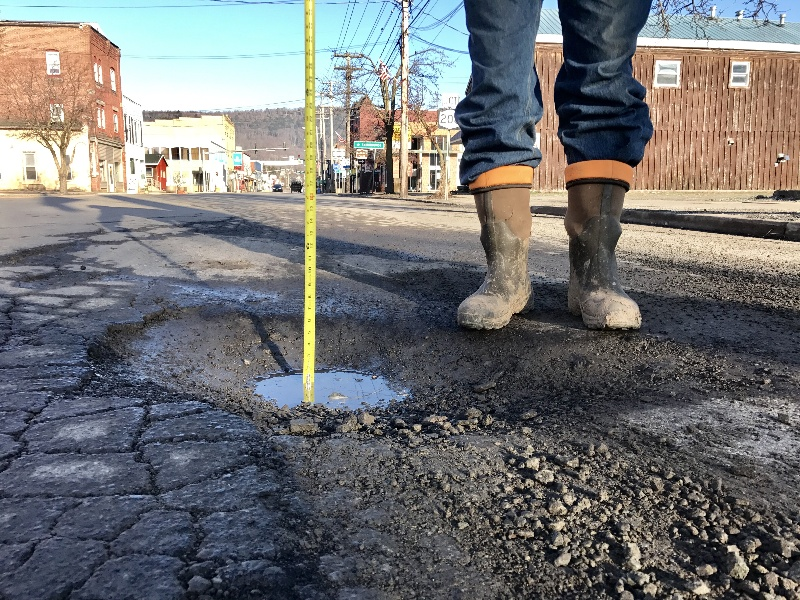pothole: (91, 308, 663, 447)
